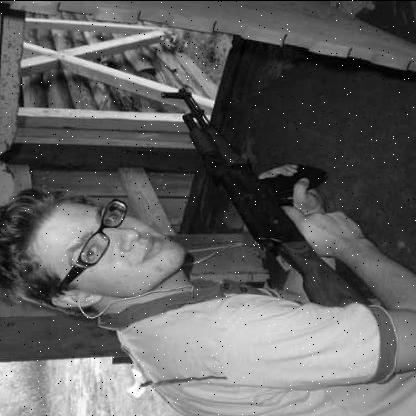rifle: (116, 69, 391, 315)
